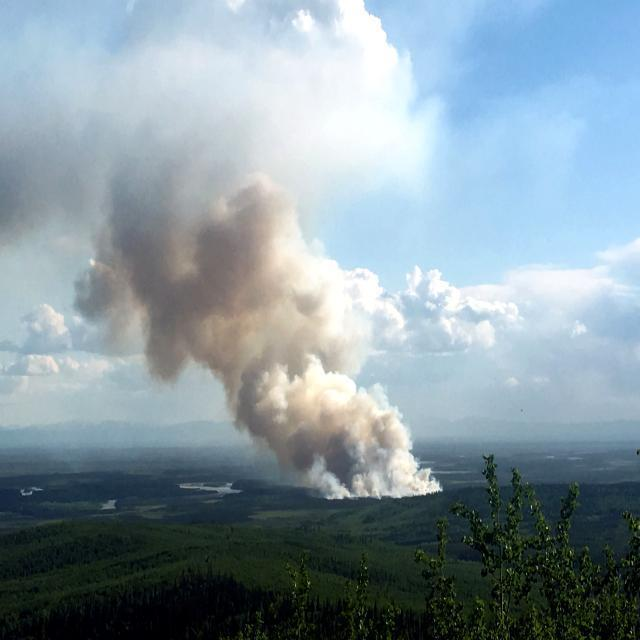Smoke: (42, 111, 426, 500)
